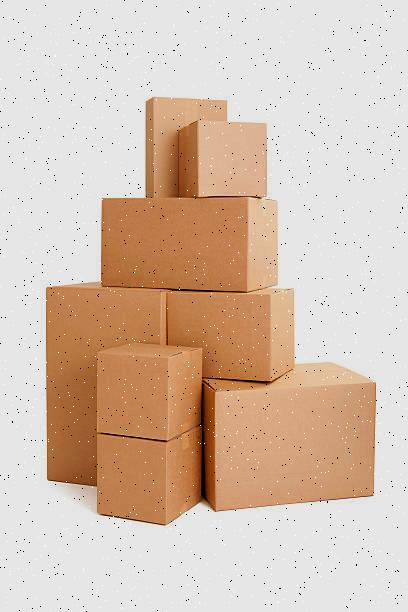Box: (202, 362, 378, 513), (46, 282, 165, 486), (101, 197, 280, 295), (160, 286, 296, 384), (97, 343, 202, 443), (98, 426, 202, 526), (145, 97, 228, 199), (178, 121, 267, 198)
